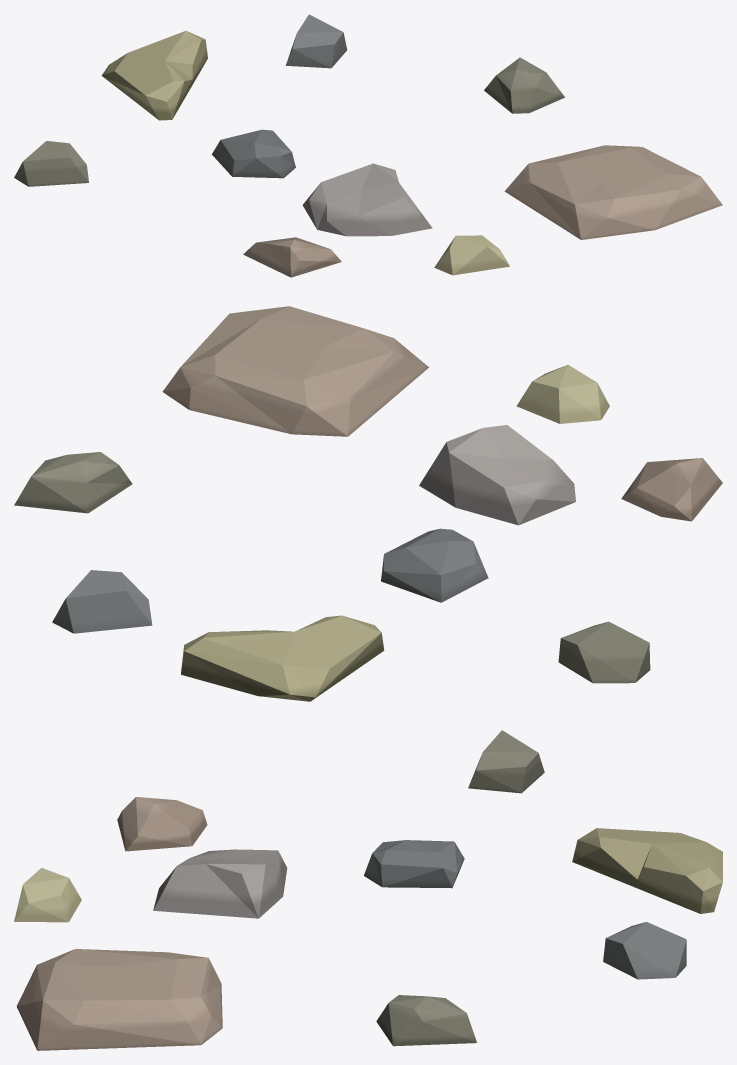
The model's file is um_pebble001.FBX.
The picture shows the model from 3 angles, top to bottom: view 1: azimuth 30°, elevation 25°; view 2: azimuth 150°, elevation 25°; view 3: azimuth 270°, elevation 25°; orthographic projection. The views are drawn at different scales.
Visible parts, largest first — view 1: um_pebble001; view 2: um_pebble001; view 3: um_pebble001.
Boxes of the visible parts, x1,y1,x2,y2 form: um_pebble001: (14, 14, 722, 277); um_pebble001: (14, 306, 722, 701); um_pebble001: (14, 730, 722, 1050).
Bounding box in the file's own units: 1.97 × 0.1254 × 2.02.
